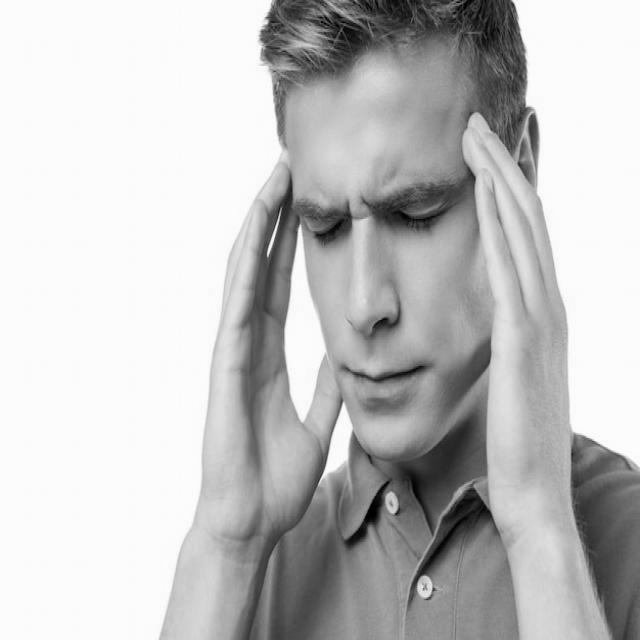real: (283, 2, 542, 465), (290, 171, 476, 245)
